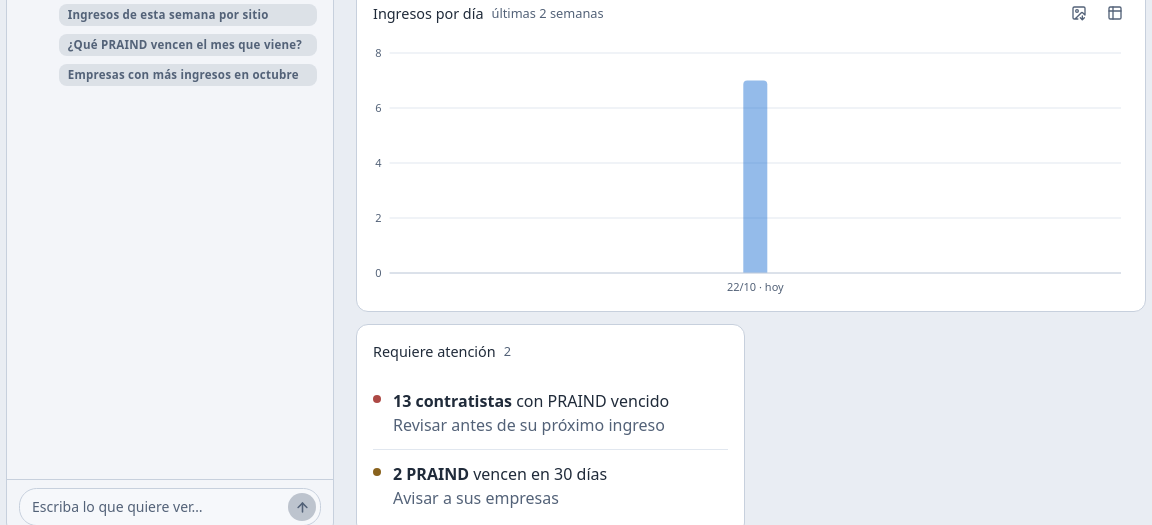
Asistente › chat: un error (como el tope diario) se muestra como aviso y no se manda como historial
This screenshot has width=1152, height=525.
(page scrolled)
Type "hola" into the text box named "Mensaje para el asistente". click: coordinates (156, 507)
box: [32,493,280,521]
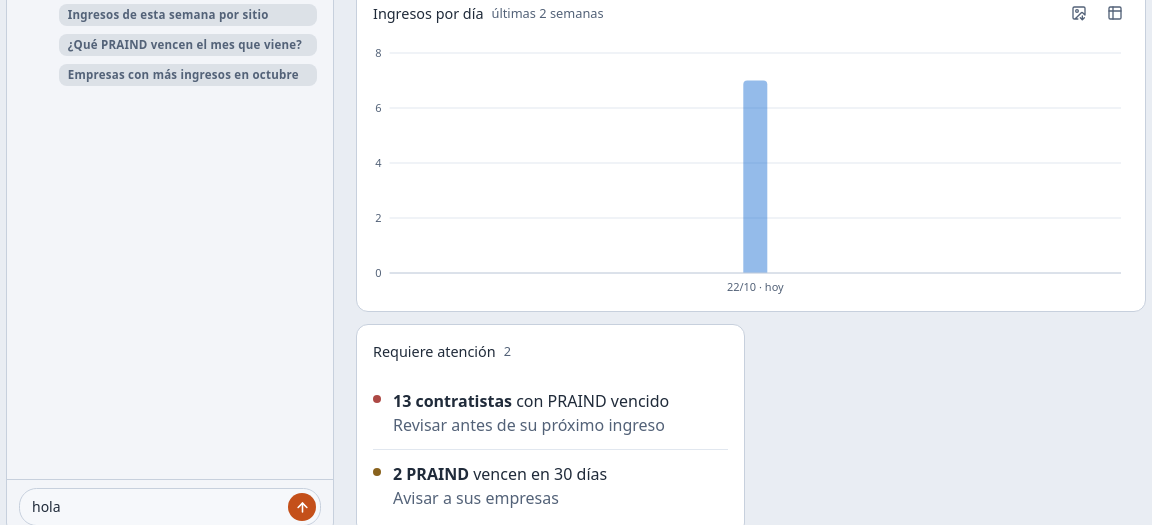
Click the button named "Enviar". click: coordinates (302, 507)
box: [288,493,316,521]
(page scrolled)
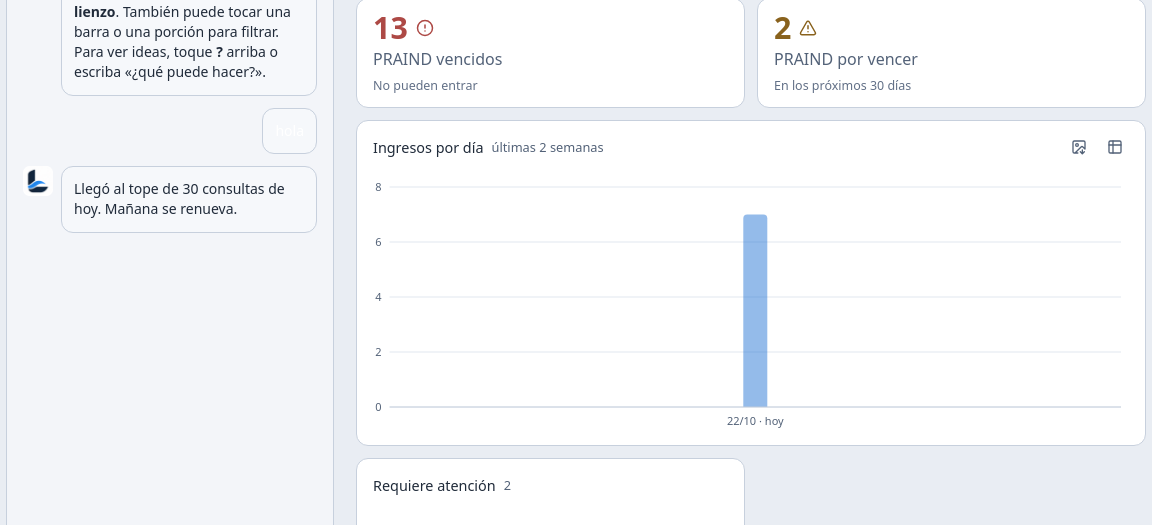
Expected: the text "Llegó al tope de 30 consultas de hoy. Mañana se renueva." is shown, [61,166,317,233]
